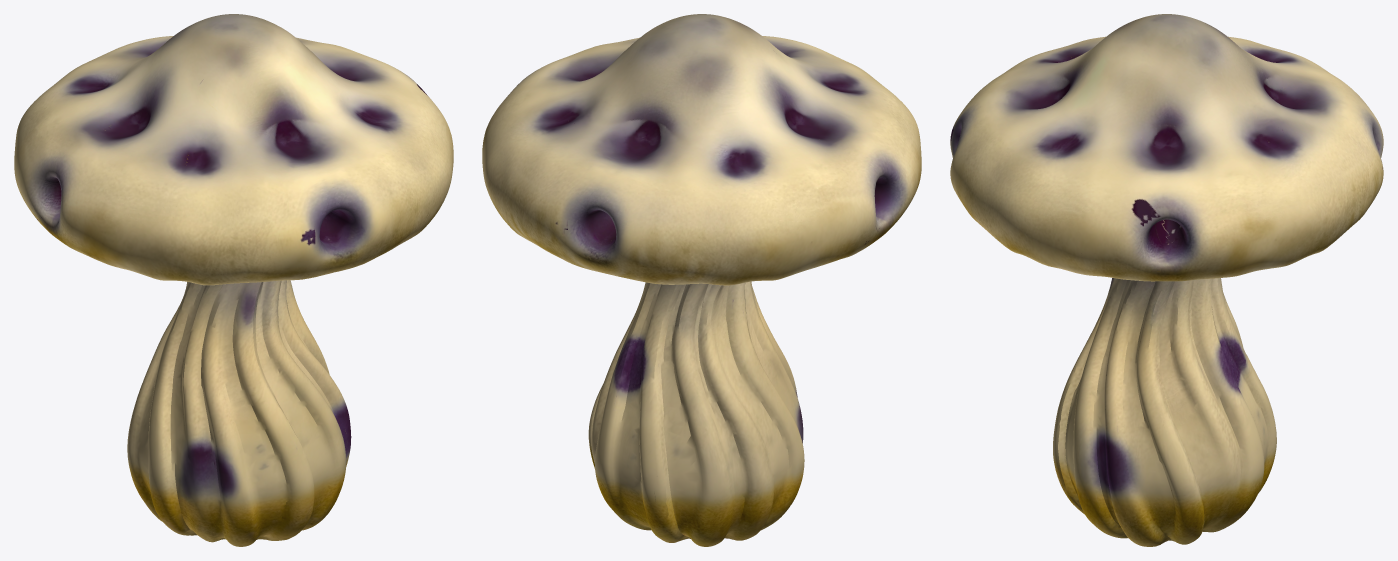
Rendered from Monster849_room.glb.
The picture shows the model from 3 angles, left to right: view 1: azimuth 30°, elevation 25°; view 2: azimuth 150°, elevation 25°; view 3: azimuth 270°, elevation 25°; orthographic projection.
Parts seen in each view (by area): view 1: Mushroom; view 2: Mushroom; view 3: Mushroom.
Boxes of the visible parts, x1,y1,x2,y2 form: Mushroom: [14, 14, 453, 546]; Mushroom: [482, 14, 921, 546]; Mushroom: [950, 14, 1383, 546].
Bounding box in the file's own units: 0.7613 × 0.9559 × 0.761.
Materials: 1 (1 with a texture image).
